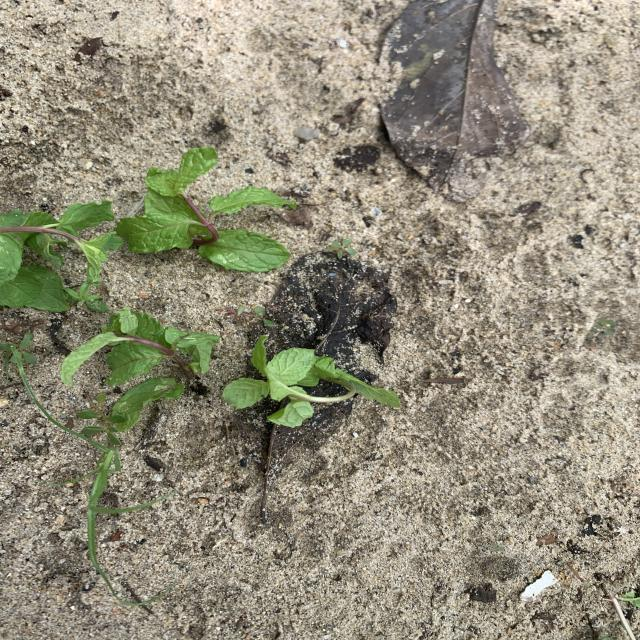crop: (118, 148, 295, 271), (61, 308, 218, 431), (221, 336, 399, 425), (1, 201, 117, 311)
weed: (19, 367, 150, 599), (78, 392, 125, 443), (64, 280, 107, 311), (0, 333, 36, 367), (328, 238, 355, 258), (250, 306, 274, 327), (588, 318, 614, 337)
